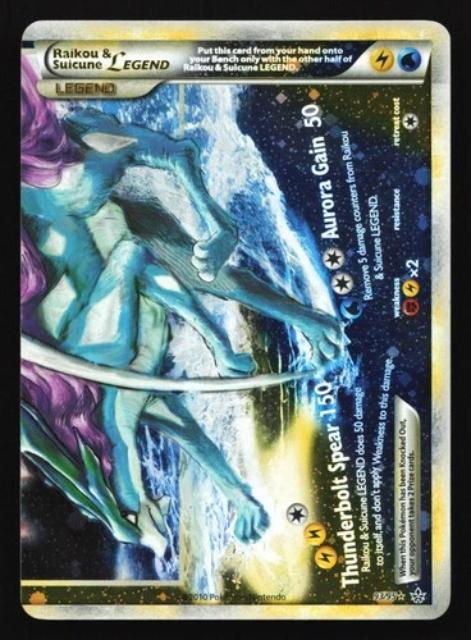Card: (17, 17, 455, 624)
Name: (49, 41, 175, 78)
